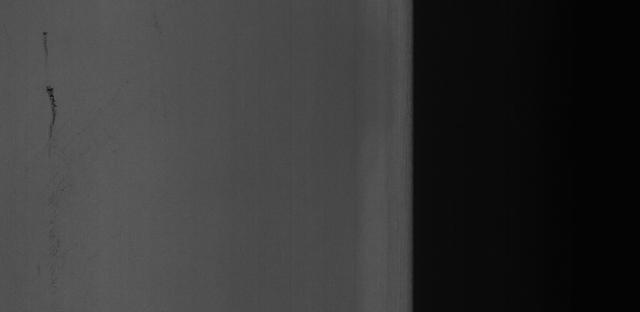inclusion: (38, 84, 60, 146), (38, 31, 52, 68)
